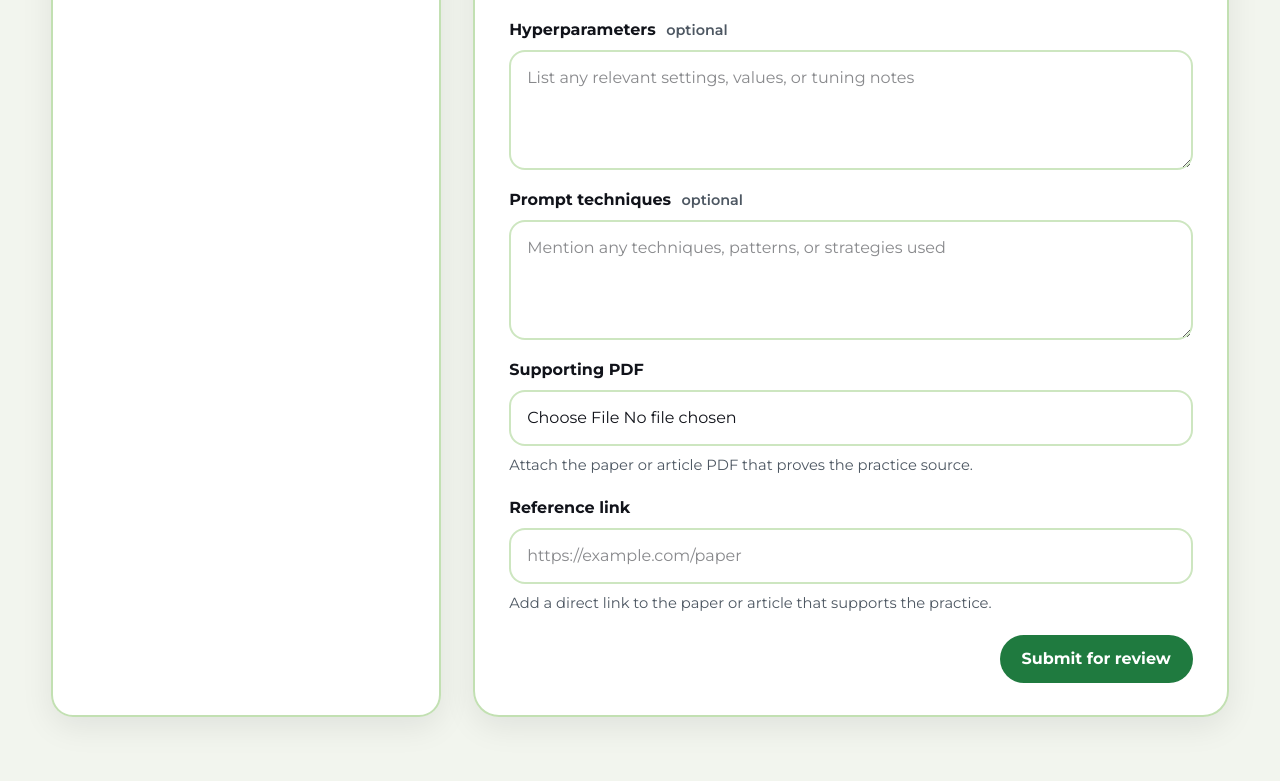
Test: CollaboratePage › shows a login warning before submitting when the user is not authenticated
The width and height of the screenshot is (1280, 781).
(page scrolled)
Click the button "Submit for review" at (1096, 658), box left=1000, top=634, right=1193, bottom=682
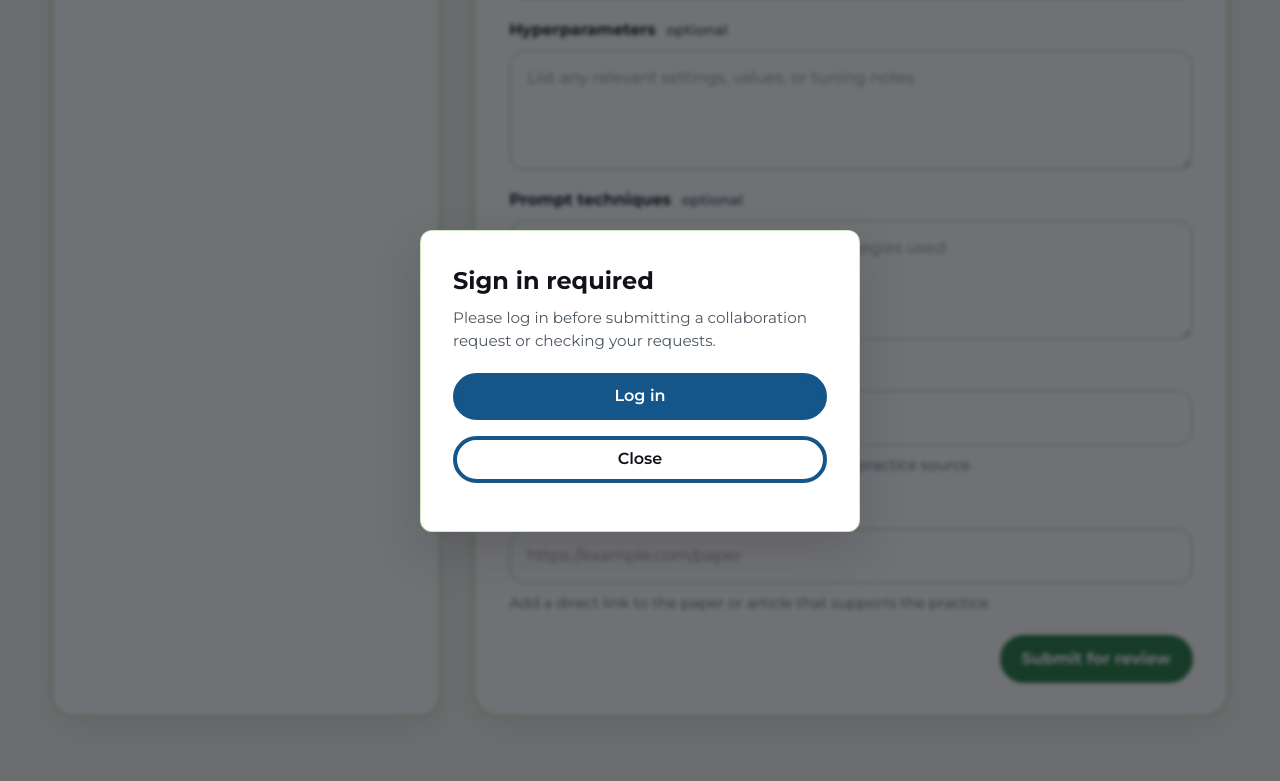
Expected: the dialog "Sign in required" is shown, left=420, top=230, right=860, bottom=532
Expected: the text "Please log in before submitting a collaboration request" is shown, left=453, top=308, right=807, bottom=350
